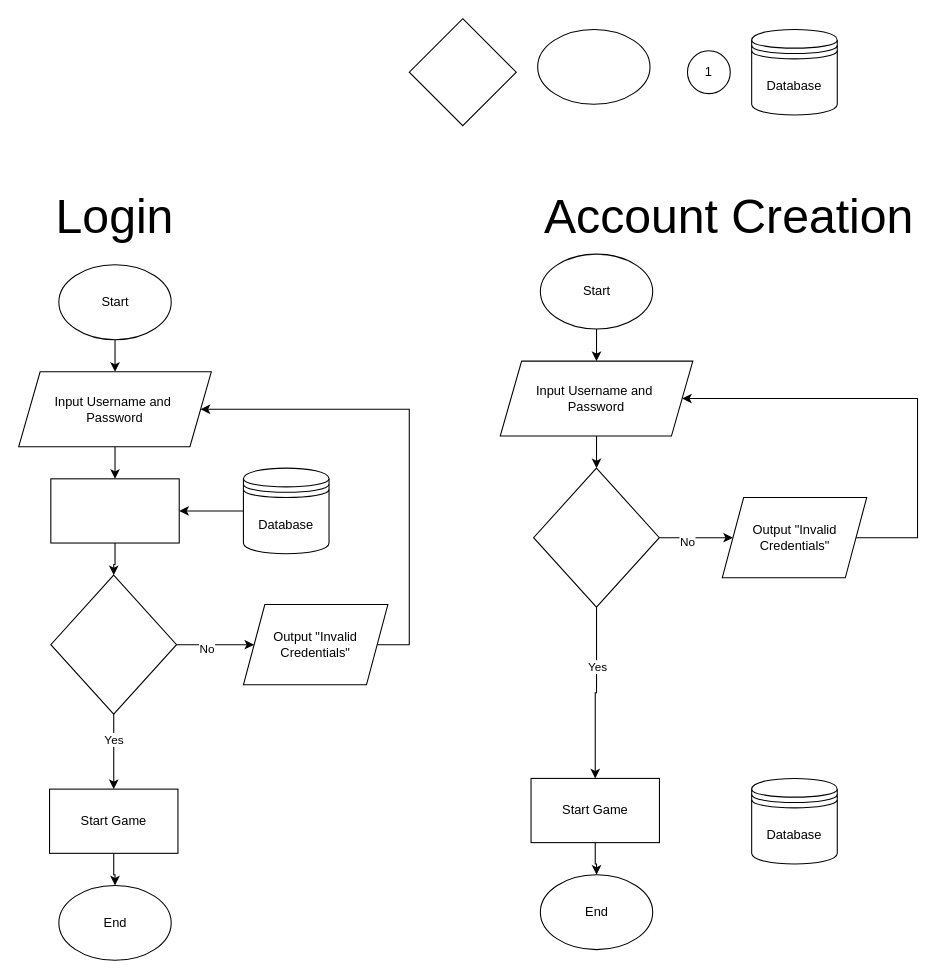
Some shapes in this 946 by 979 pixel diagram are drawn without their labels. Each missing label, with the centre of its shape:
"Check Credentials" belongs at pixel 114 510.
"Condition" belongs at pixel 462 72.
"Do Passwords Match" belongs at pixel 596 537.
"Is Credentials Valid" belongs at pixel 113 644.
"Start / End" belongs at pixel 593 66.
